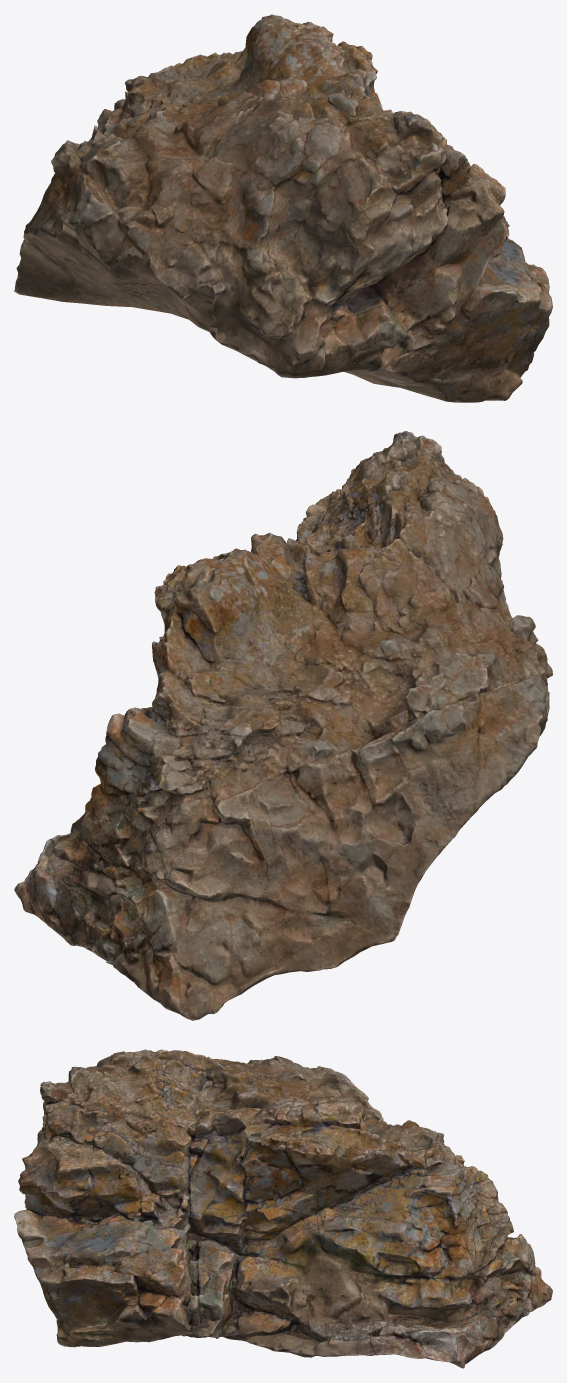
The model's file is boulder_01.glb.
3 renders of one model, top to bottom at view 1: azimuth 30°, elevation 25°; view 2: azimuth 150°, elevation 25°; view 3: azimuth 270°, elevation 25°, orthographic. The views are drawn at different scales.
Visible parts, largest first — view 1: boulder_01; view 2: boulder_01; view 3: boulder_01.
Part boxes in pixels (x1=…): boulder_01: x1=14, y1=14, x2=552, y2=402; boulder_01: x1=14, y1=431, x2=552, y2=1020; boulder_01: x1=14, y1=1049, x2=552, y2=1368.
Bounding box in the file's own units: 1.27 × 1 × 1.83.
1 material, 1 textured.
